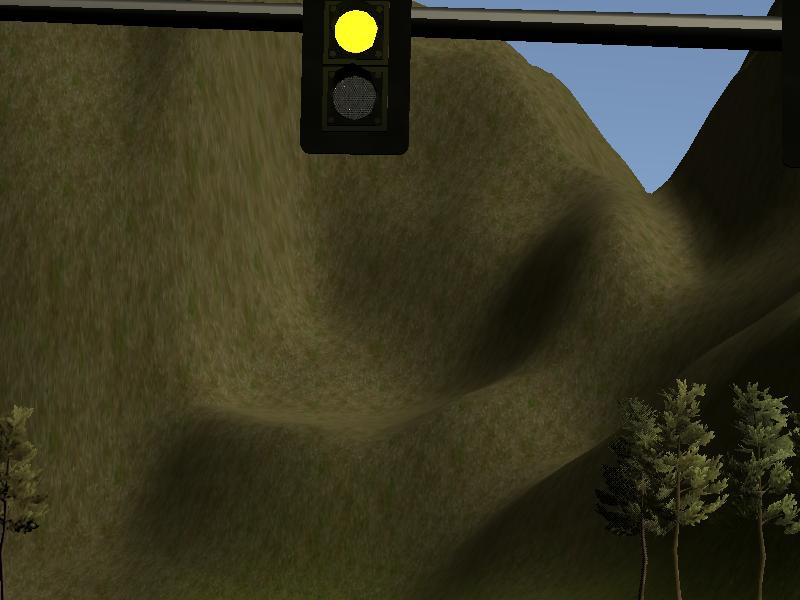yellow_light: (304, 1, 408, 153)
